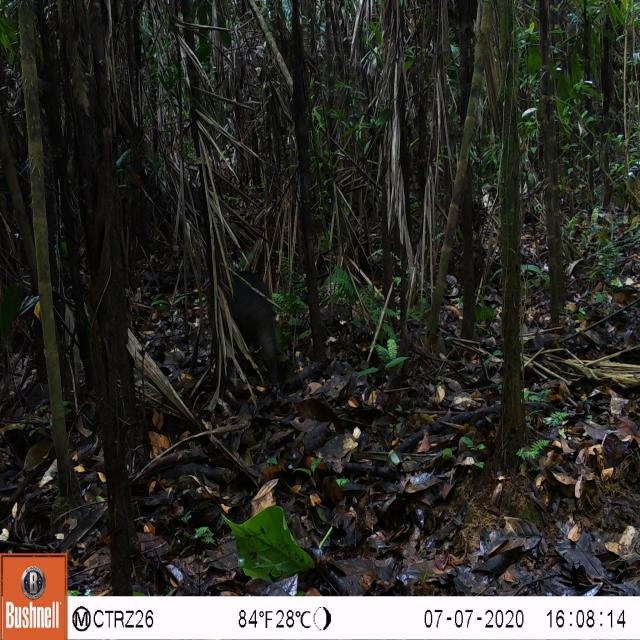White-lipped Peccary: (203, 243, 287, 391)
